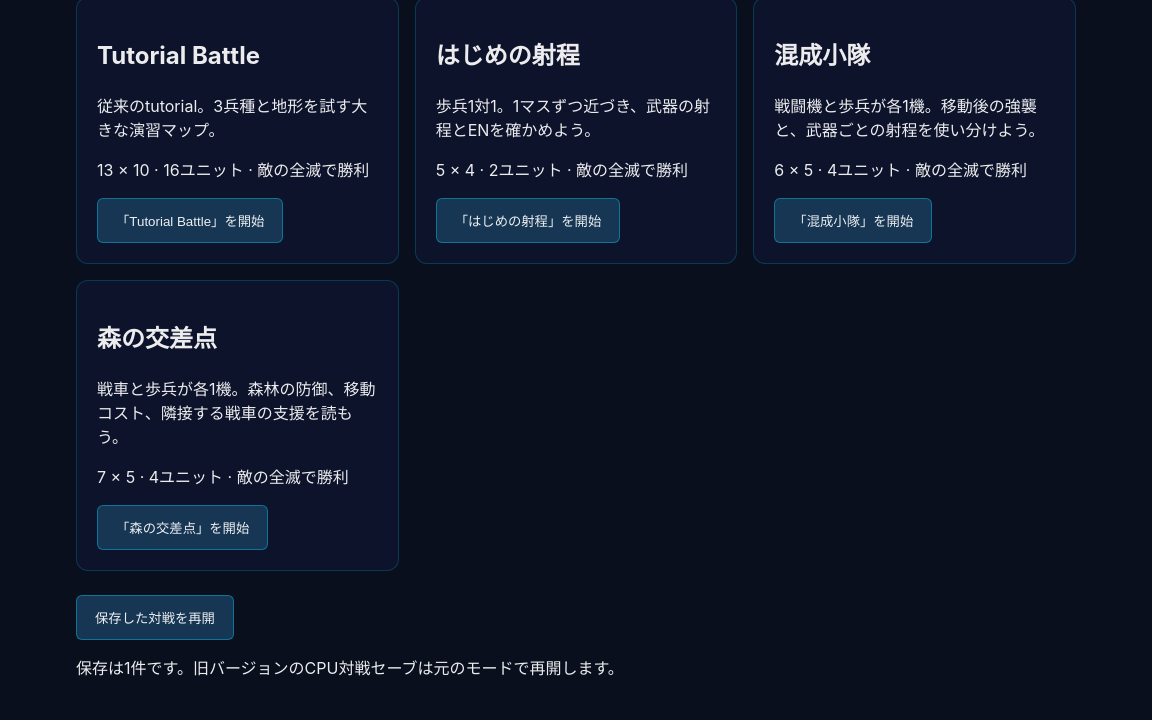
Test: loads v1 tutorial saves in their existing CPU mode
(page scrolled)
Click the button "保存した対戦を再開": (155, 617) [76,594,234,640]
(page scrolled)
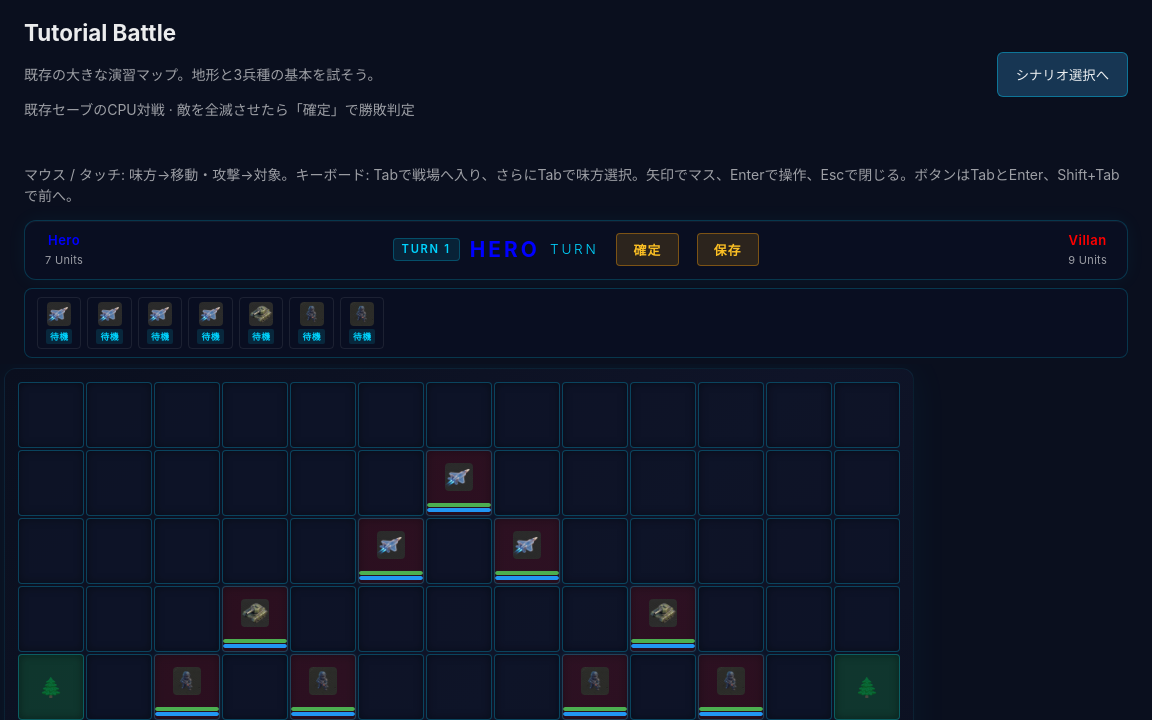
Expected: the text "既存セーブのCPU対戦 · 敵を全滅させたら「確定」で勝敗判定" is shown, [24,99,415,120]
